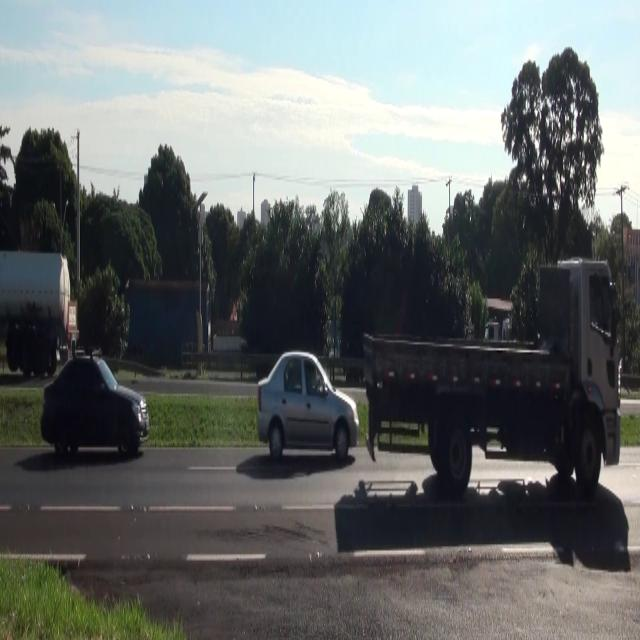-axle: (444, 418, 474, 498), (574, 414, 603, 492)
